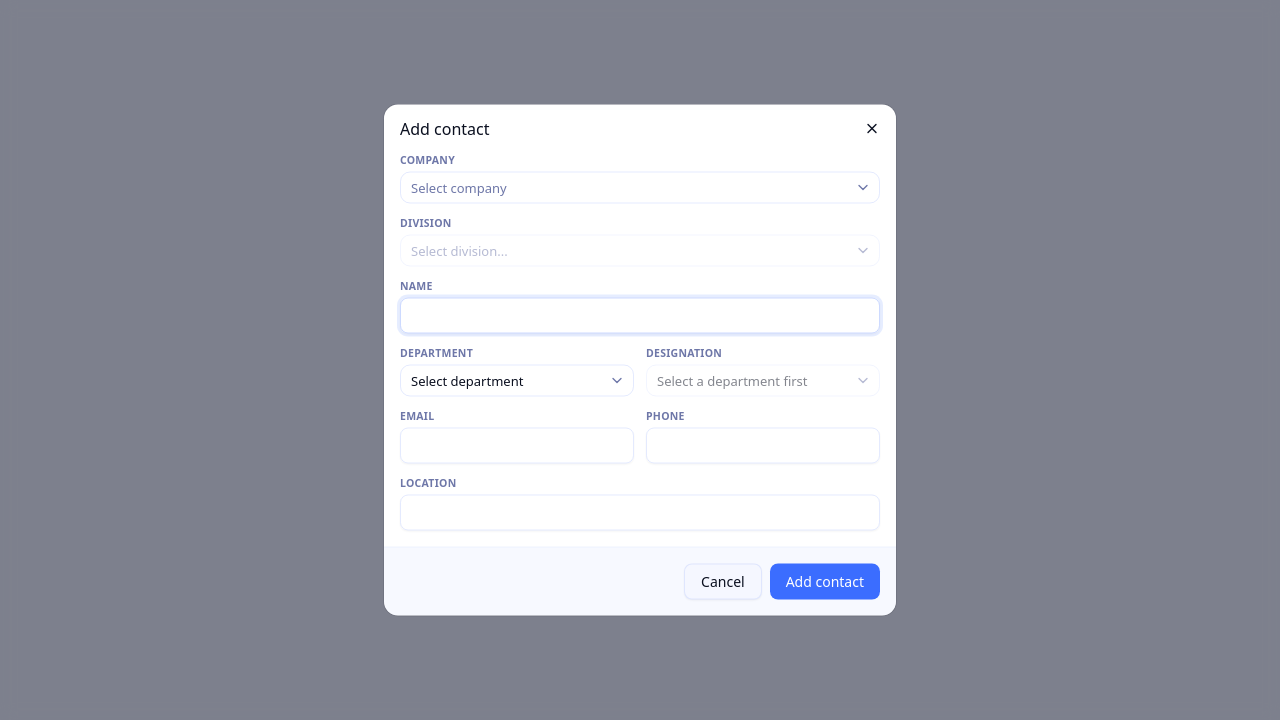
Test: EditContactModal — create mode, platform session (tenant + division pickers both shown) › picking a division, then changing the company, resets the division — a stale pick from the old company is never submitted
Expected: the heading "Add contact" is shown, [400,118,490,140]
Expected: the text "Select company" is shown, [411,178,507,196]
Click the dropdown labelled "Select company ▼" at (459, 187), box [400,172,880,204]
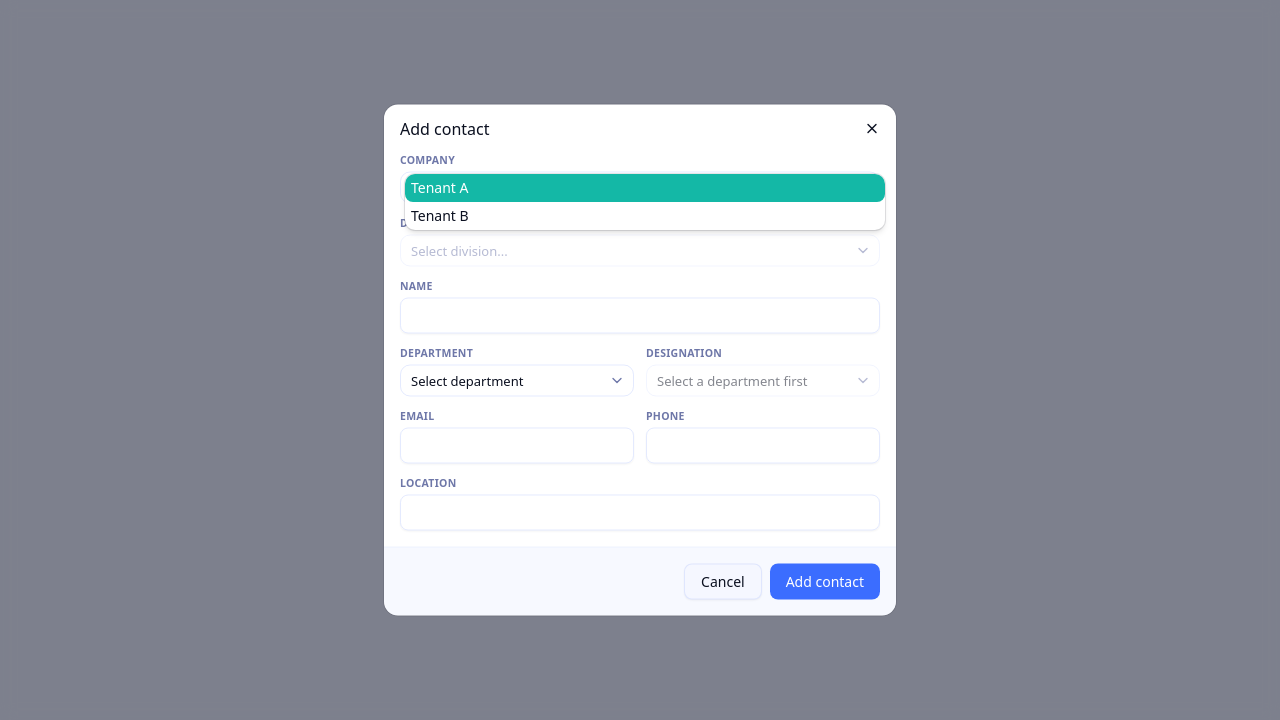
Click the option "Tenant A" at (440, 187), box [405,174,885,202]
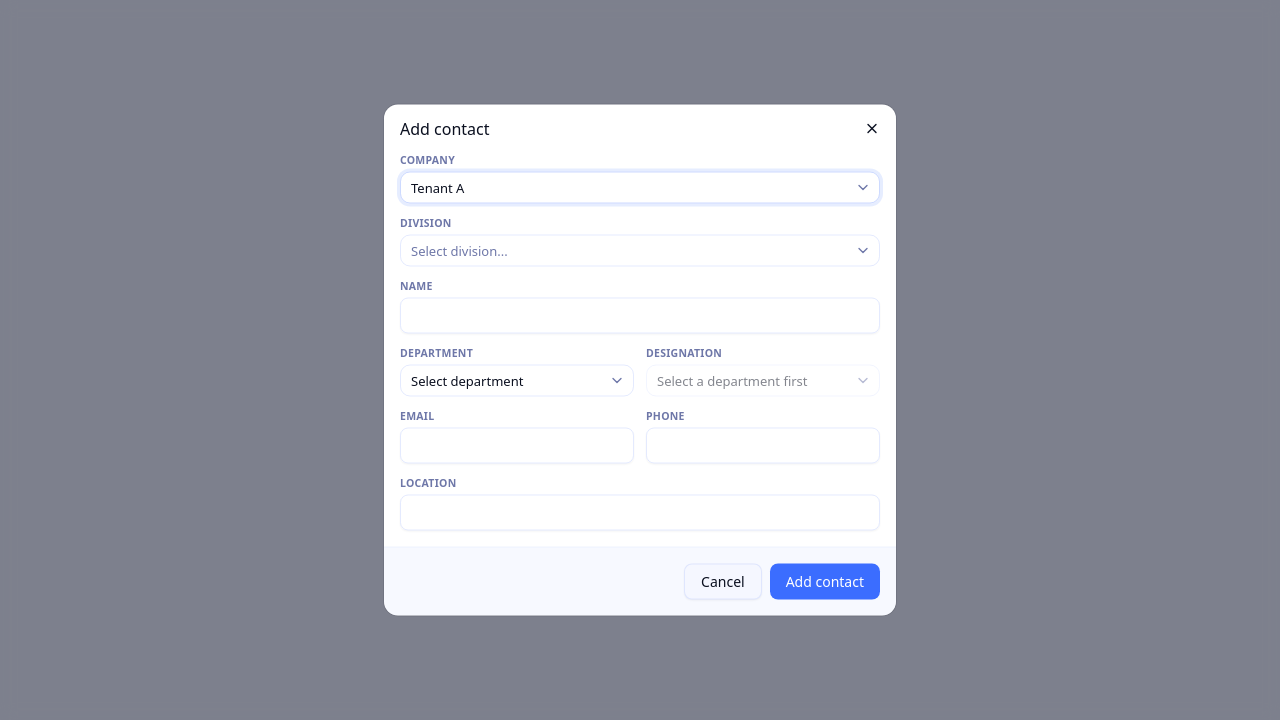
Click the dropdown labelled "Select division... ▼" at (459, 250), box [400,234,880,266]
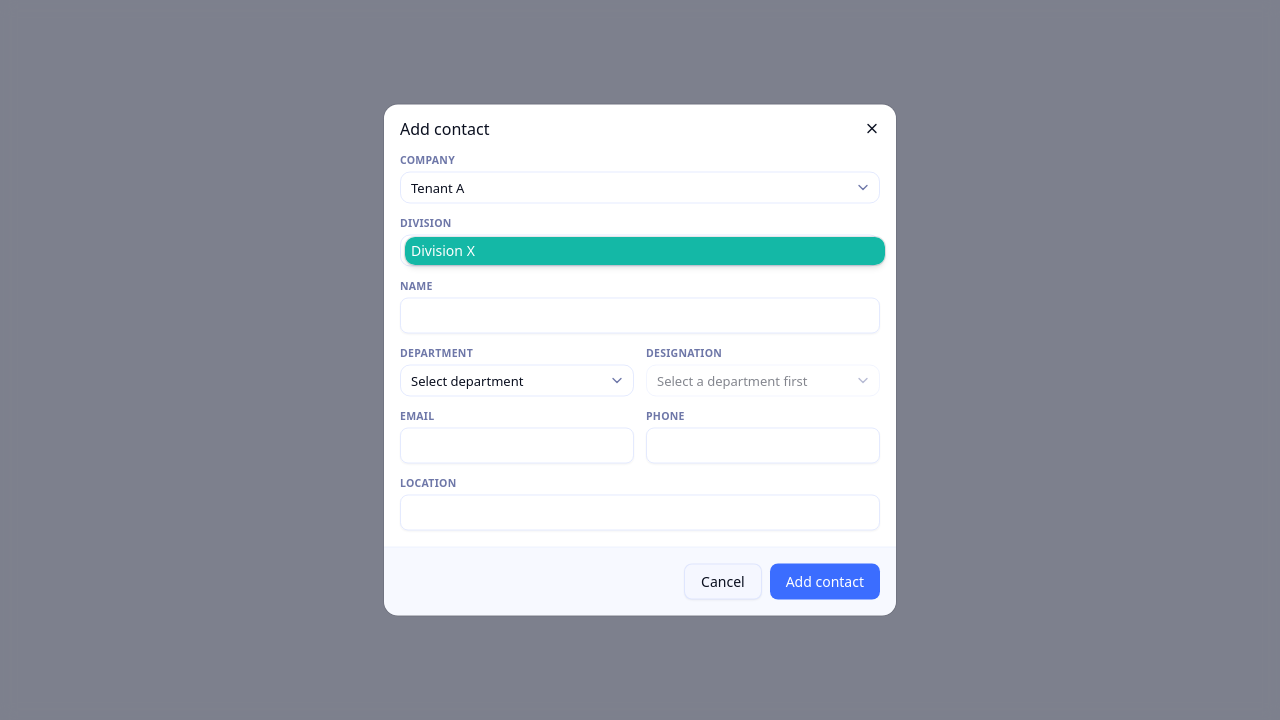
Click the option "Division X" at (443, 250), box [405,236,885,264]
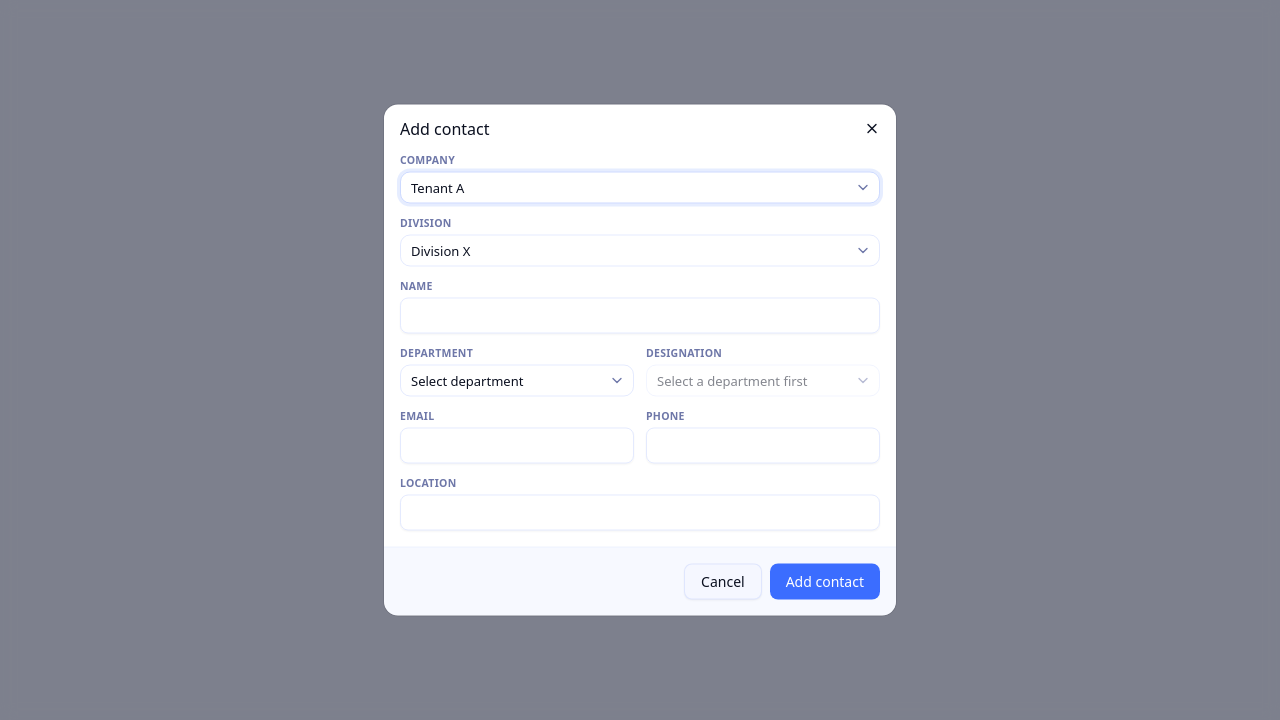
Result: the text "Division X" is shown at [411,241,470,259]
Click the dropdown labelled "Tenant A ▼" at (438, 187), box [400,172,880,204]
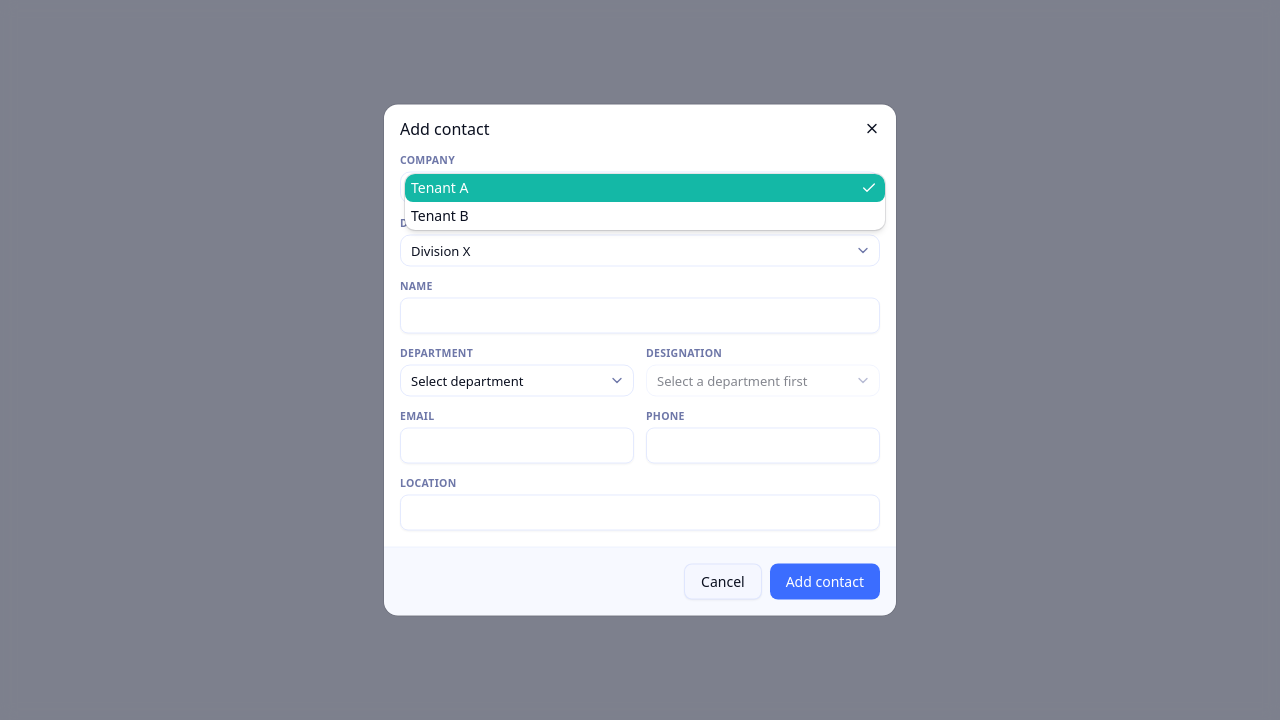
Click the option "Tenant B" at (440, 215), box [411,206,469,224]
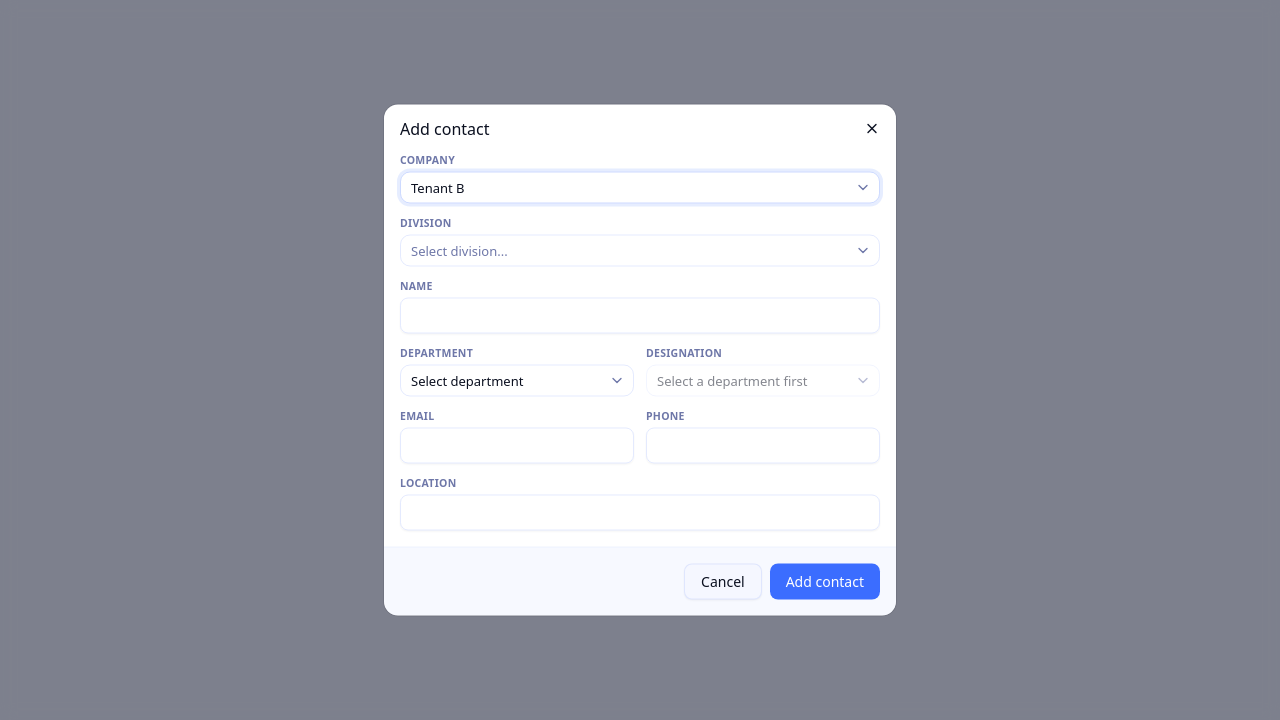
Result: the dropdown "Division X" is gone
Result: the text "Select division..." is shown at [411,241,508,259]
